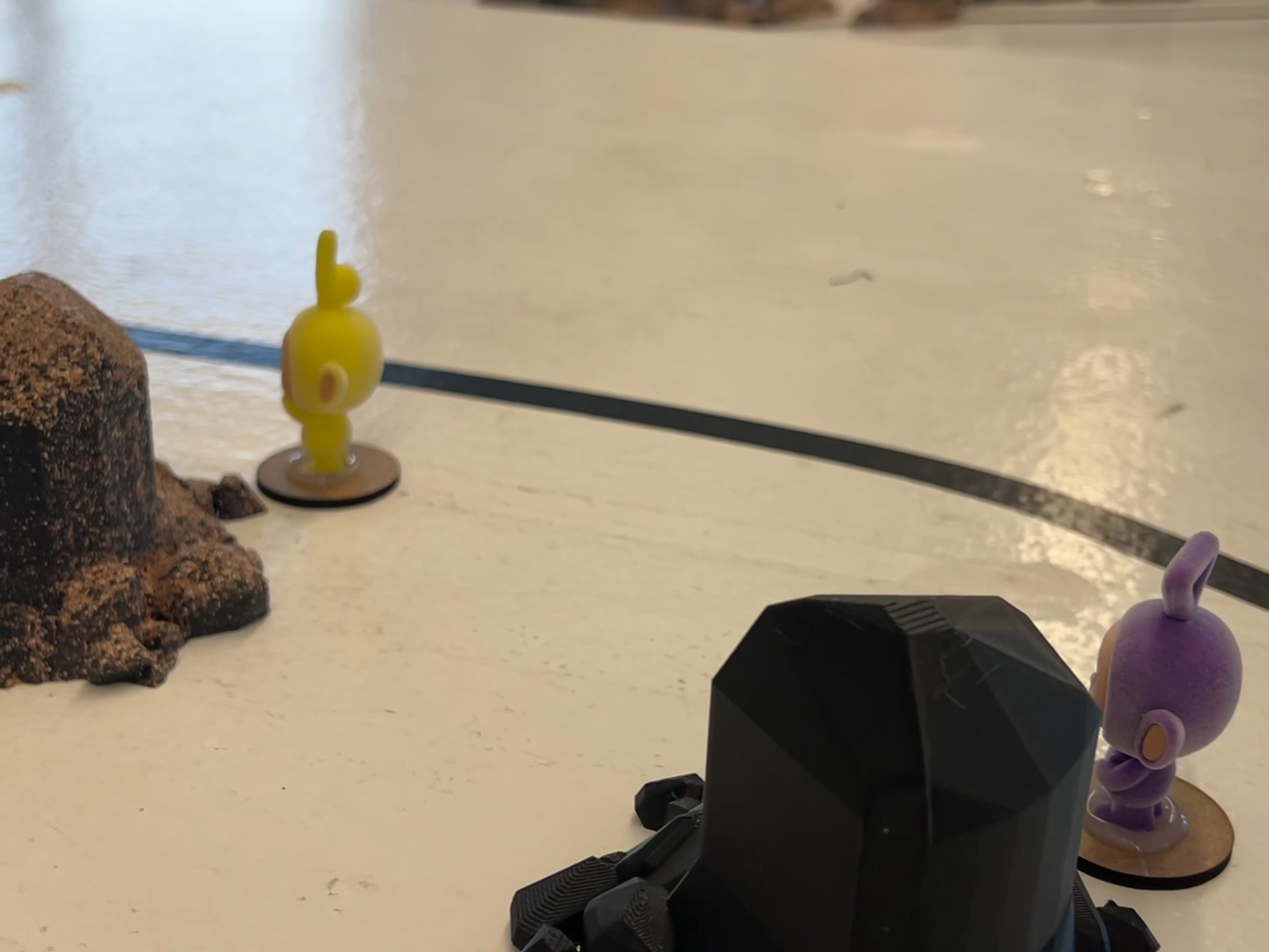teletubby: (1091, 532, 1242, 829), (282, 231, 383, 477)
